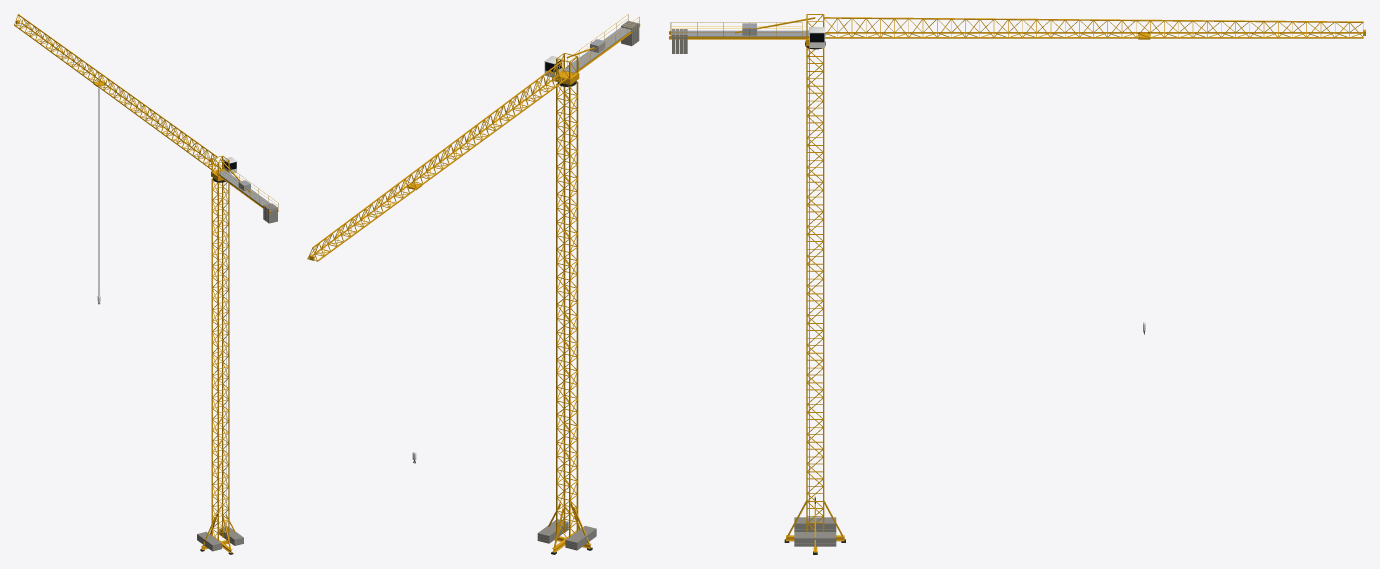
Rendered from plant.crane.tower_flat_60.glb.
3 renders of one model, left to right at view 1: azimuth 30°, elevation 25°; view 2: azimuth 150°, elevation 25°; view 3: azimuth 270°, elevation 25°, orthographic. The views are drawn at different scales.
Visible parts, largest first — view 1: mast__plant_yellow, slew__plant_yellow, base__concrete, slew__steel_galvanised, hook__steel_dark; view 2: mast__plant_yellow, slew__plant_yellow, base__concrete, slew__steel_galvanised, base__plant_yellow; view 3: slew__plant_yellow, mast__plant_yellow, base__concrete, slew__steel_galvanised.
Boxes of the visible parts, x1,y1,x2,y2 form: mast__plant_yellow: [211, 178, 229, 540]; slew__plant_yellow: [14, 14, 278, 213]; base__concrete: [197, 526, 243, 551]; slew__steel_galvanised: [219, 170, 277, 210]; hook__steel_dark: [98, 87, 100, 304]; mast__plant_yellow: [556, 81, 578, 538]; slew__plant_yellow: [307, 14, 640, 261]; base__concrete: [537, 519, 596, 550]; slew__steel_galvanised: [562, 24, 639, 72]; base__plant_yellow: [548, 502, 591, 552]; slew__plant_yellow: [669, 14, 1365, 46]; mast__plant_yellow: [806, 47, 824, 531]; base__concrete: [794, 517, 836, 546]; slew__steel_galvanised: [671, 23, 809, 36].
Bounding box in the file's own units: 6.7 × 63.37 × 76.25.
